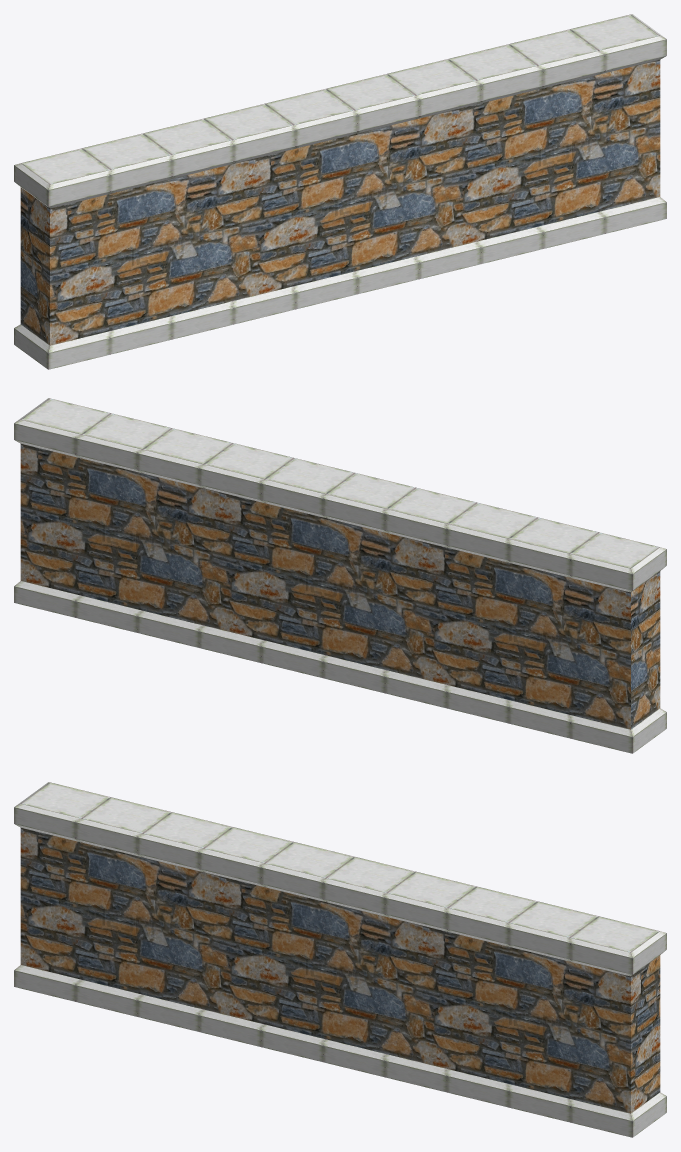
Rendered from UDC_ParkWall.obj.
3 views of the same model, one above another, from view 1: azimuth 30°, elevation 25°; view 2: azimuth 150°, elevation 25°; view 3: azimuth 330°, elevation 25° (orthographic).
Parts seen in each view (by area): view 1: UDC_ParkWall; view 2: UDC_ParkWall; view 3: UDC_ParkWall.
Boxes of the visible parts, bbox=[...] form: UDC_ParkWall: bbox=[14, 14, 666, 369]; UDC_ParkWall: bbox=[14, 398, 666, 753]; UDC_ParkWall: bbox=[14, 782, 666, 1137].
Size of the model in its own units: 1.2 by 0.3372 by 0.1151.
Materials: 2 (2 with a texture image).
